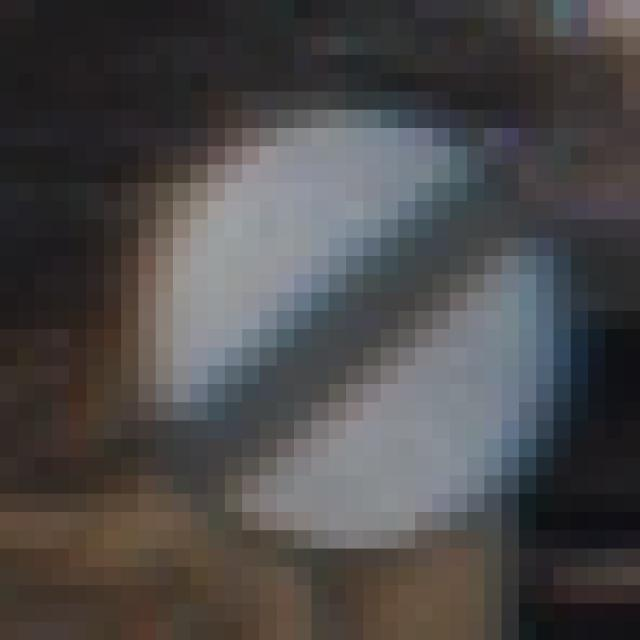restriction ends: (111, 78, 591, 559)
